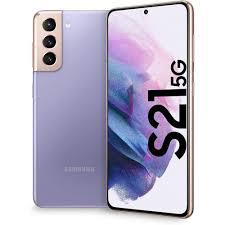Smartphone: (29, 12, 128, 205), (103, 5, 194, 213)
